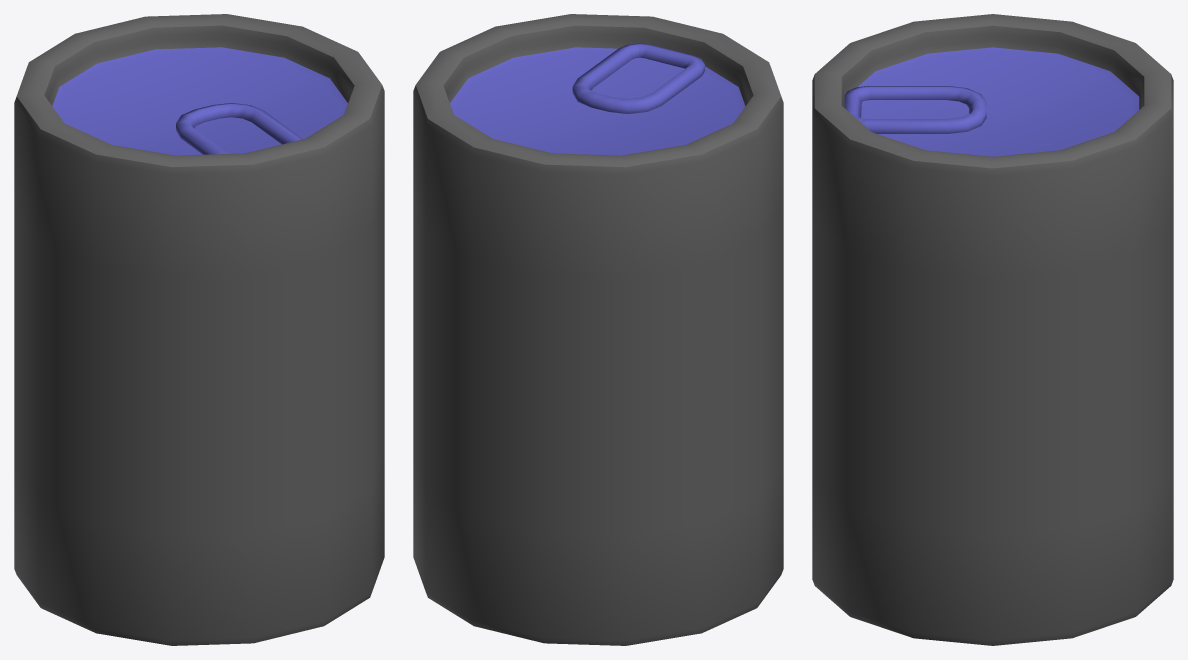
Rendered from SM_canned_food_02.fbx.
The picture shows the model from 3 angles, left to right: view 1: azimuth 30°, elevation 25°; view 2: azimuth 150°, elevation 25°; view 3: azimuth 270°, elevation 25°; orthographic projection.
Parts seen in each view (by area): view 1: Cylinder031; view 2: Cylinder031; view 3: Cylinder031.
Part boxes in pixels (left/top/right/bottom): Cylinder031: left=14, top=14, right=384, bottom=645; Cylinder031: left=413, top=14, right=783, bottom=645; Cylinder031: left=812, top=14, right=1173, bottom=645.
Size of the model in its own units: 8.18 by 11.73 by 7.97.
